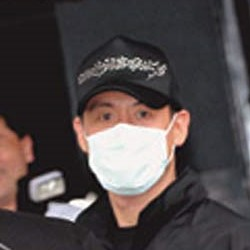mask: (82, 112, 168, 199)
